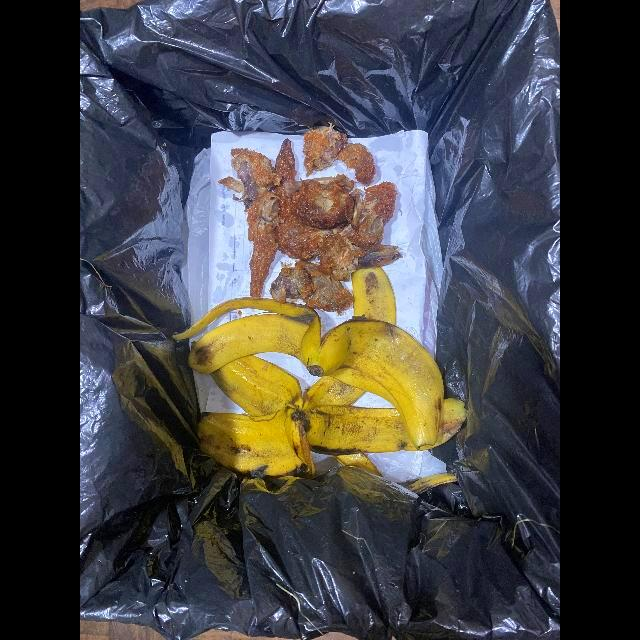left_over_food: (273, 139, 403, 281), (218, 147, 281, 297), (270, 260, 354, 316), (303, 123, 376, 185)
